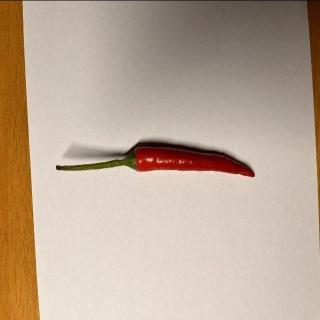Cabai Merah: (56, 147, 256, 178)
